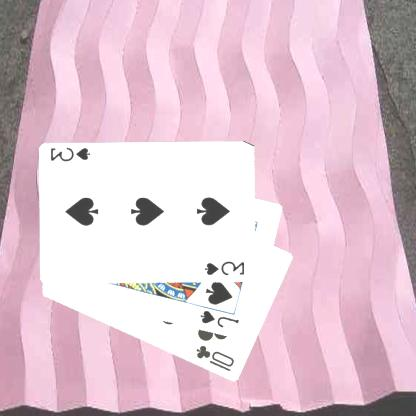10C: (195, 343, 238, 373)
3S: (204, 259, 249, 277), (50, 146, 94, 164)
JS: (199, 308, 242, 330)
